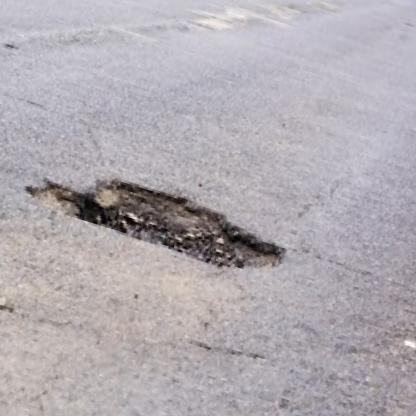pothole: (17, 151, 295, 289)
